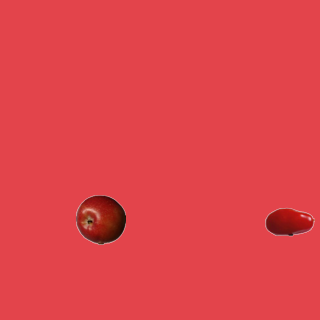Apple Braeburn: (75, 194, 125, 244)
Tomato 2: (264, 196, 314, 246)
